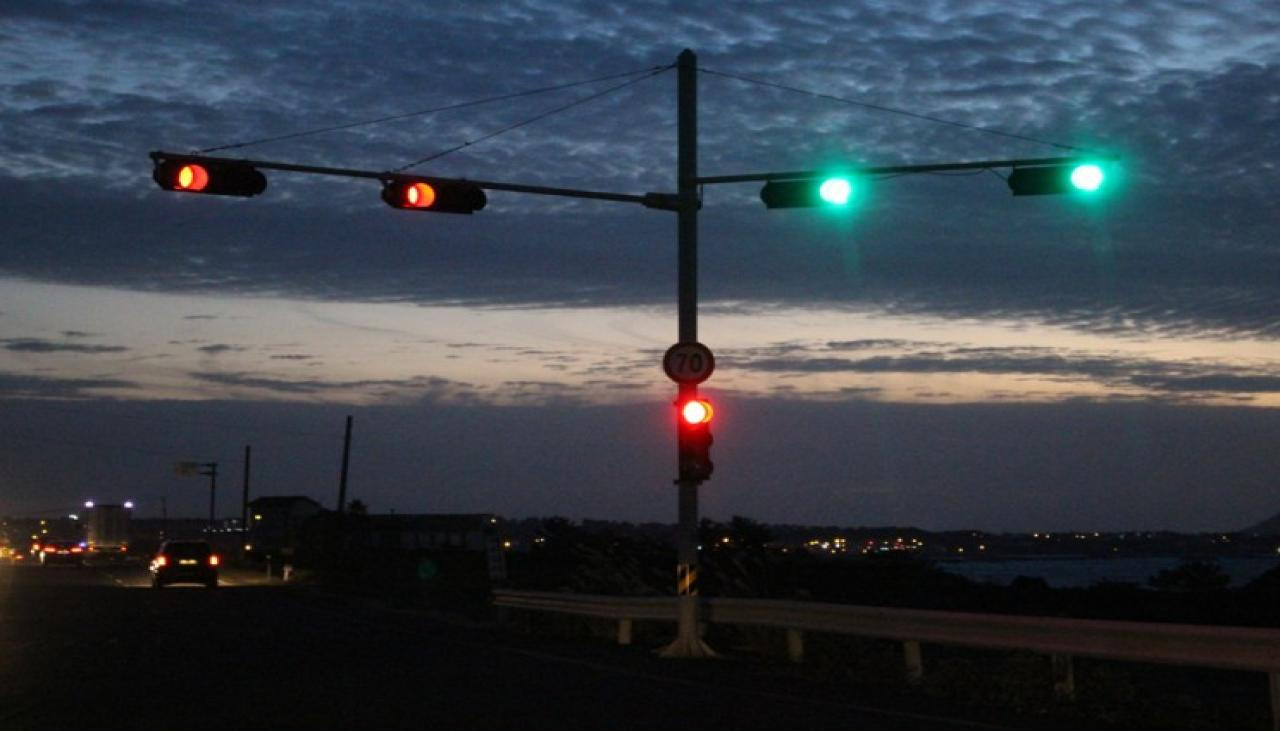Green Light: (816, 174, 858, 212), (1066, 162, 1110, 196)
Red Light: (674, 392, 716, 430), (166, 159, 211, 194), (396, 178, 438, 213)
